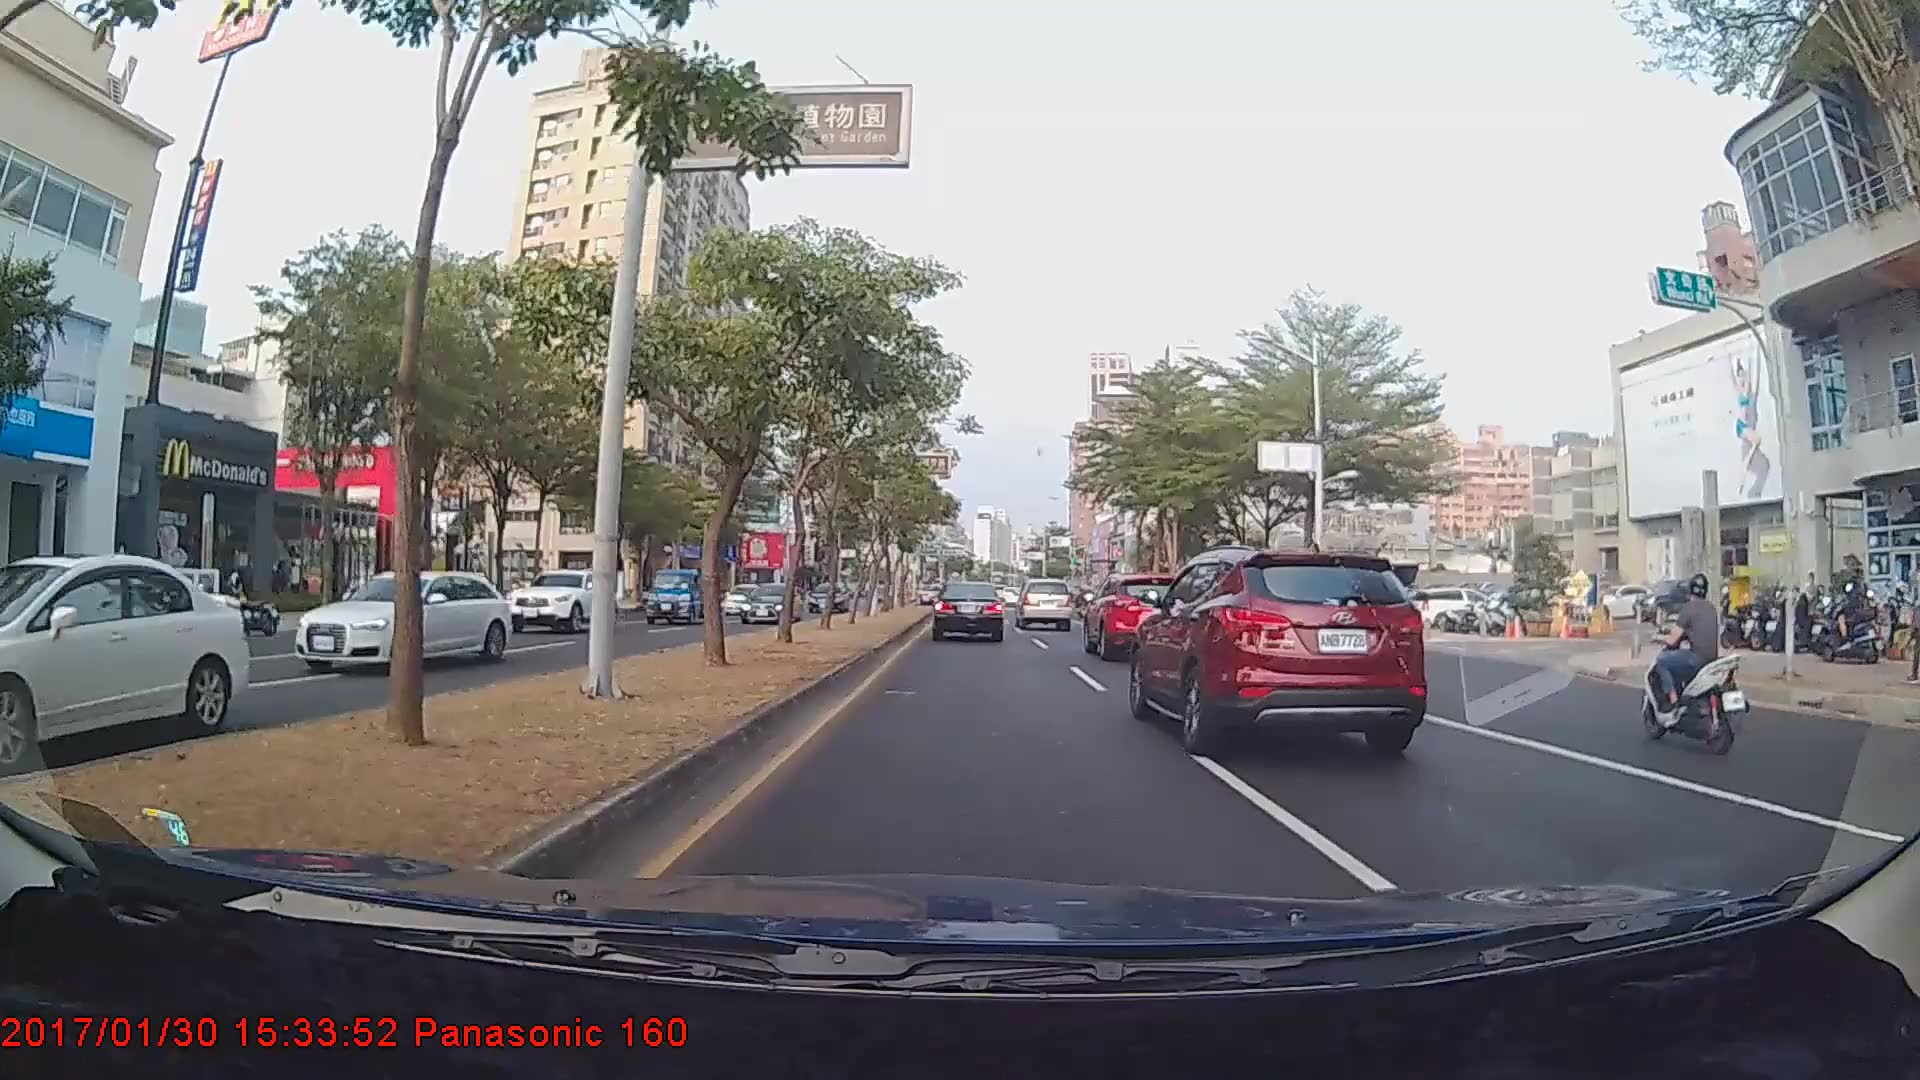rider: (1627, 568, 1748, 755)
vehicle: (1135, 550, 1426, 746), (0, 554, 246, 769), (288, 569, 511, 672), (1082, 574, 1209, 661), (506, 566, 622, 630), (932, 580, 1005, 642), (645, 564, 714, 624), (1015, 578, 1072, 631), (740, 583, 800, 622), (806, 577, 848, 611)
